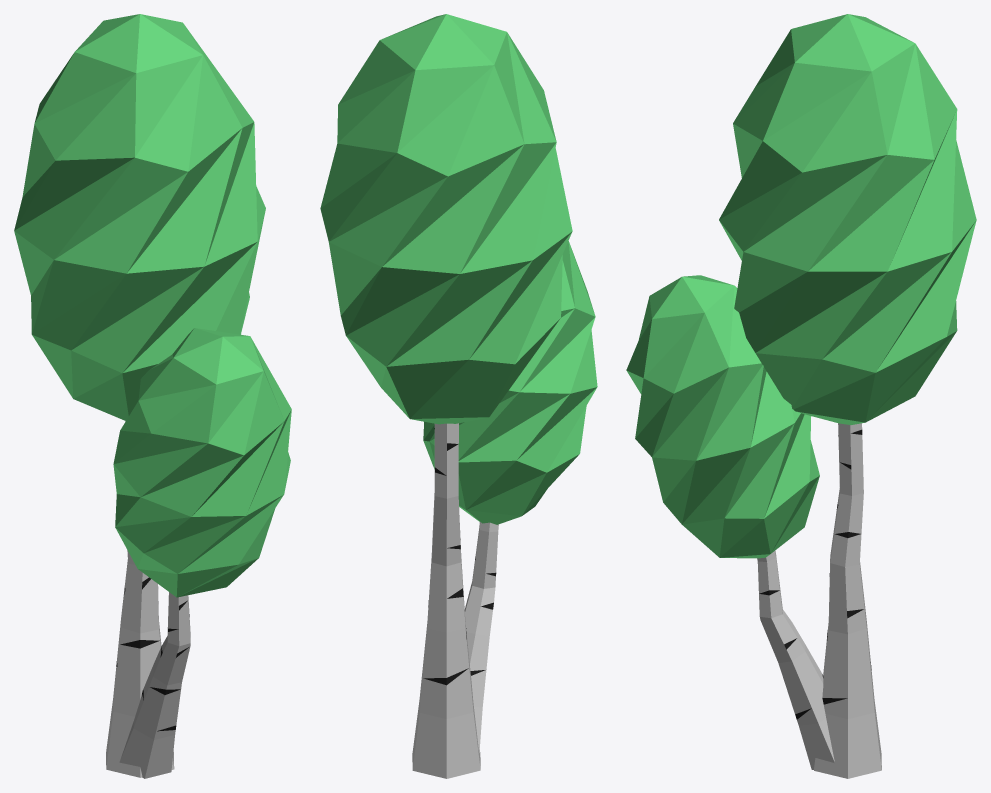
Rendered from birch_tree_1.fbx.
The picture shows the model from 3 angles, left to right: view 1: azimuth 30°, elevation 25°; view 2: azimuth 150°, elevation 25°; view 3: azimuth 270°, elevation 25°; orthographic projection.
Parts seen in each view (by area): view 1: birch_tree_1; view 2: birch_tree_1; view 3: birch_tree_1.
Boxes of the visible parts, left/top/right/bottom form: birch_tree_1: left=14, top=14, right=291, bottom=778; birch_tree_1: left=320, top=14, right=597, bottom=778; birch_tree_1: left=626, top=14, right=976, bottom=778.
Bounding box in the file's own units: 1.52 × 5.12 × 2.17.
